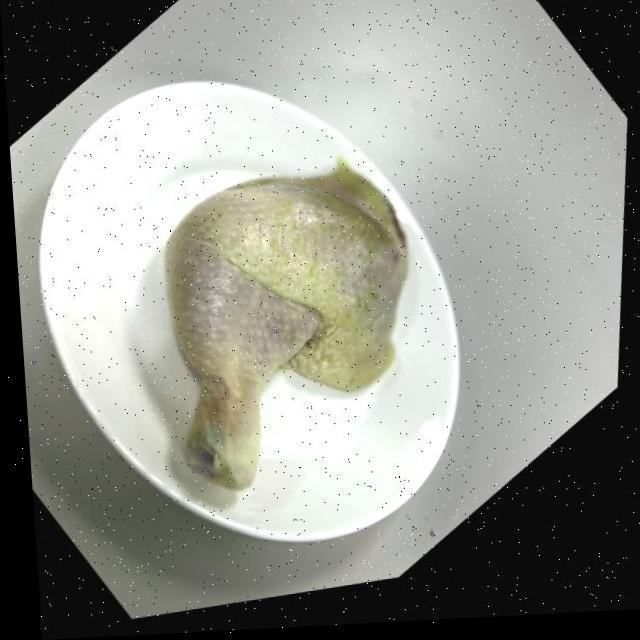quater: (161, 160, 402, 490)
